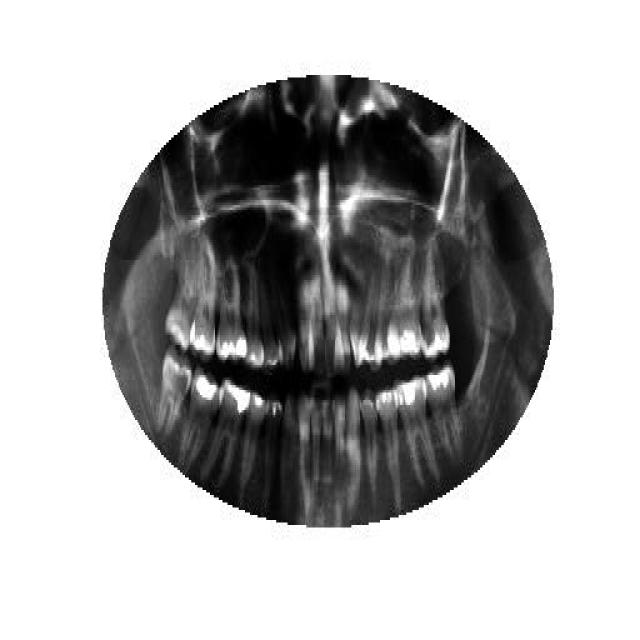Fillings: (202, 380, 250, 482), (395, 377, 436, 485), (180, 365, 220, 465), (424, 362, 464, 458), (388, 252, 422, 358), (190, 235, 216, 357), (422, 255, 452, 357), (218, 258, 248, 360), (239, 393, 266, 505)
